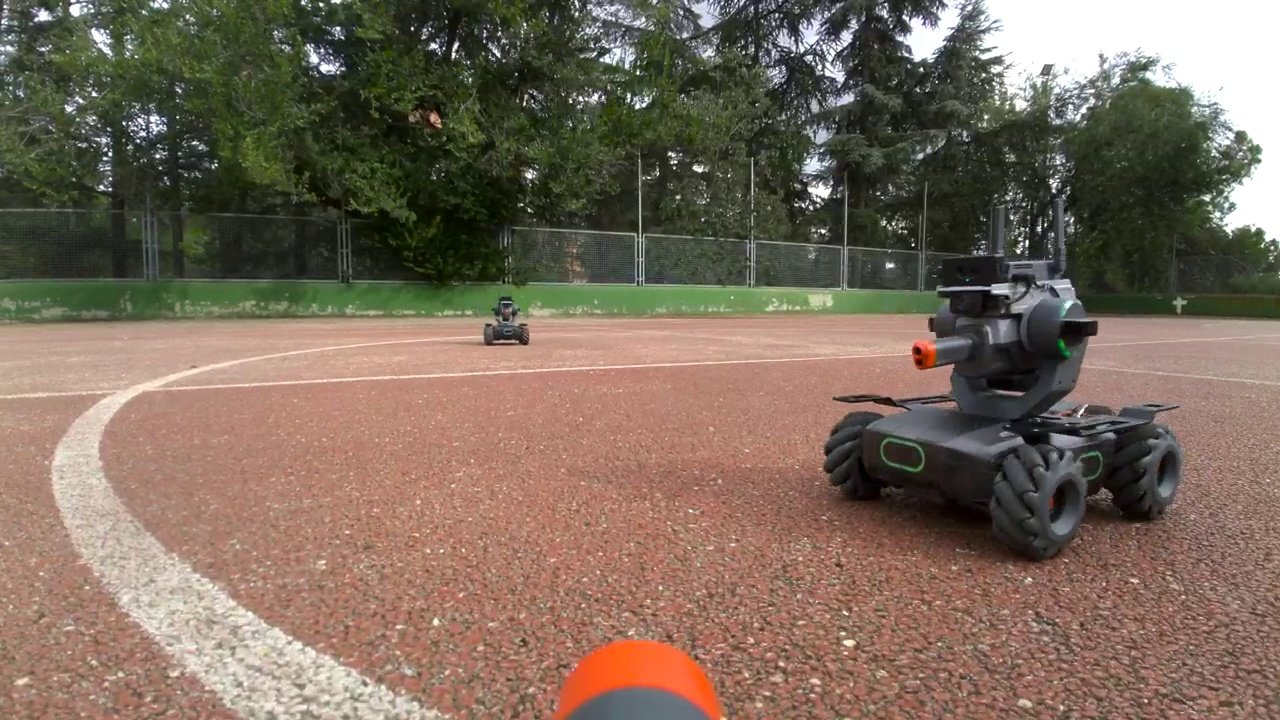robot: (823, 258, 1182, 558), (483, 296, 528, 345)
